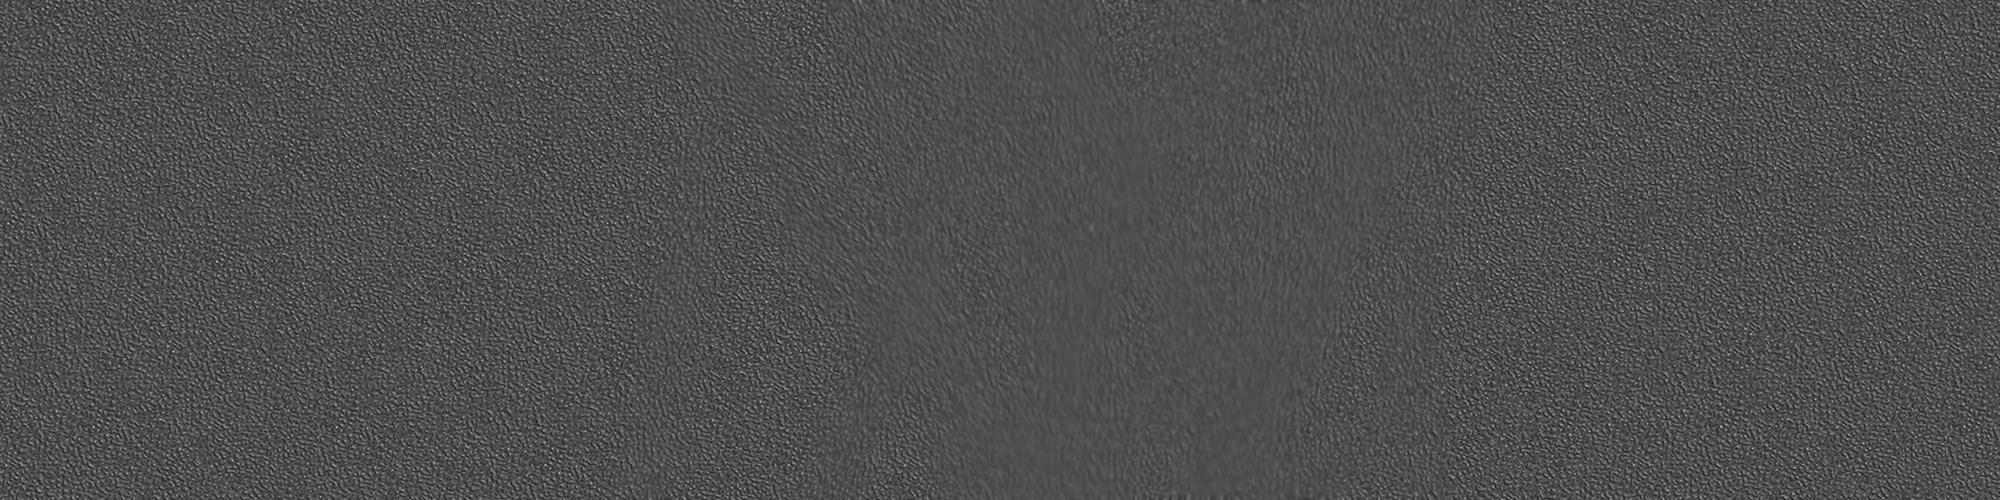Flow_Lines: (835, 8, 1453, 494)
